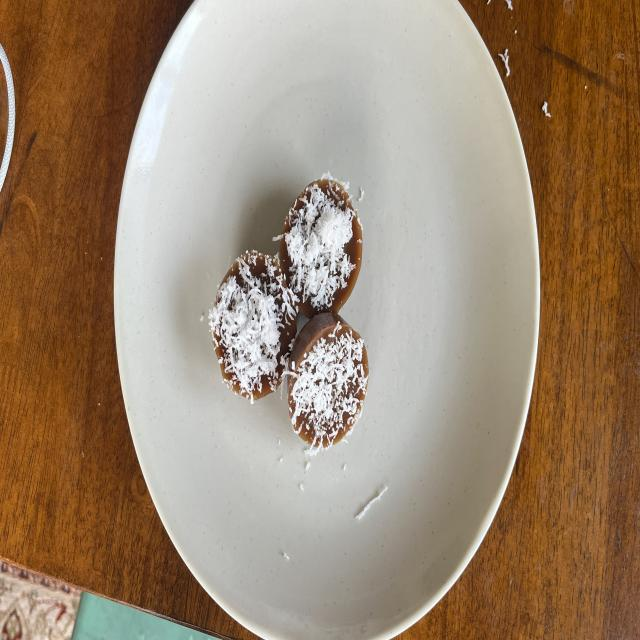Kuih lompang: (209, 251, 296, 402), (279, 173, 362, 318), (286, 311, 369, 453)
